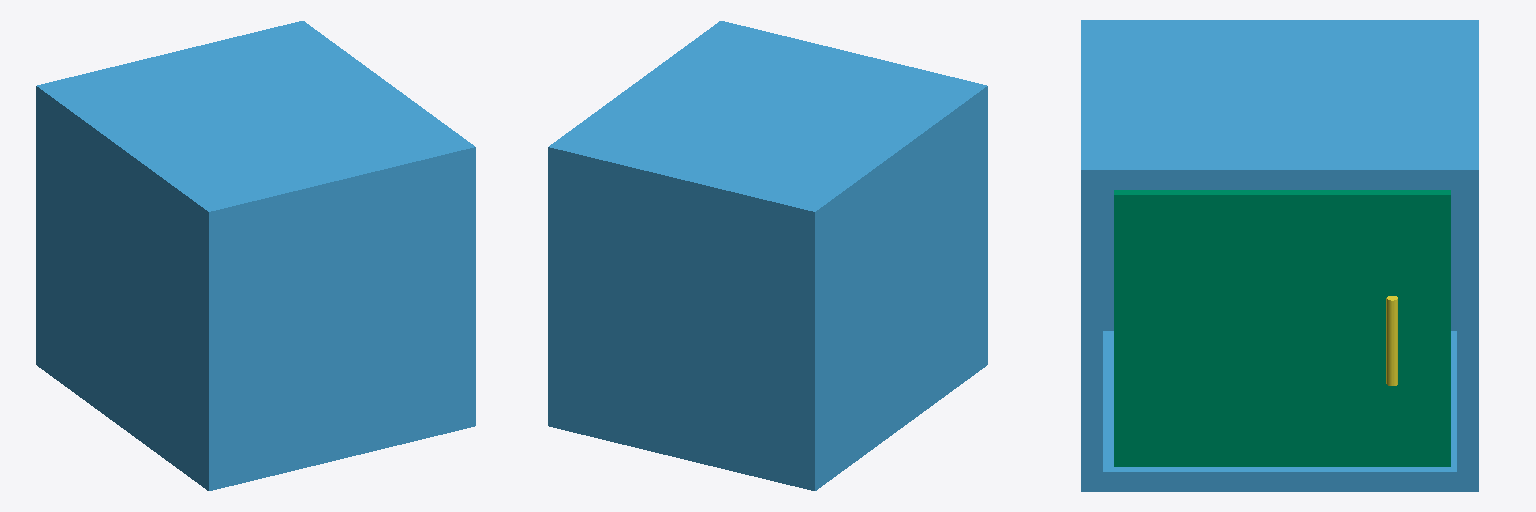
URDF robot description (my_cabinet):
<?xml version="1.0" ?>
<robot name="my_cabinet">
	<link name="world"/>
	<joint name="virtual_joint" type="fixed">
		<parent link="world"/>
		<child link="base_cabinet_link"/>
		<origin xyz="0.0 0.0 0.0" rpy="0.0 0.0 0.0"/>
	</joint>
	<link name="base_cabinet_link">
		<visual>
			<origin xyz="0.0 -0.0025 -0.14094410219396244" rpy="0.0 0.0 0.0"/>
			<geometry>
				<box size="0.3 0.3362288012594858 0.018"/>
			</geometry>
		</visual>
		<collision name="base_cabinet_link_collision_0">
			<origin xyz="0.0 -0.0025 -0.14094410219396244" rpy="0.0 0.0 0.0"/>
			<geometry>
				<box size="0.3 0.3362288012594858 0.018"/>
			</geometry>
		</collision>
		<visual>
			<origin xyz="0.0 0.1566144006297429 0.0" rpy="0.0 0.0 0.0"/>
			<geometry>
				<box size="0.3 0.018 0.2998882043879249"/>
			</geometry>
		</visual>
		<collision name="base_cabinet_link_collision_1">
			<origin xyz="0.0 0.1566144006297429 0.0" rpy="0.0 0.0 0.0"/>
			<geometry>
				<box size="0.3 0.018 0.2998882043879249"/>
			</geometry>
		</collision>
		<visual>
			<origin xyz="0.0 -0.16161440062974292 0.0" rpy="0.0 0.0 0.0"/>
			<geometry>
				<box size="0.3 0.018 0.2998882043879249"/>
			</geometry>
		</visual>
		<collision name="base_cabinet_link_collision_2">
			<origin xyz="0.0 -0.16161440062974292 0.0" rpy="0.0 0.0 0.0"/>
			<geometry>
				<box size="0.3 0.018 0.2998882043879249"/>
			</geometry>
		</collision>
		<visual>
			<origin xyz="0.0 -0.0025 0.14094410219396244" rpy="0.0 0.0 0.0"/>
			<geometry>
				<box size="0.3 0.3362288012594858 0.018"/>
			</geometry>
		</visual>
		<collision name="base_cabinet_link_collision_3">
			<origin xyz="0.0 -0.0025 0.14094410219396244" rpy="0.0 0.0 0.0"/>
			<geometry>
				<box size="0.3 0.3362288012594858 0.018"/>
			</geometry>
		</collision>
		<visual>
			<origin xyz="-0.141 -0.0025 0.0" rpy="0.0 0.0 0.0"/>
			<geometry>
				<box size="0.018 0.3362288012594858 0.2998882043879249"/>
			</geometry>
		</visual>
		<collision name="base_cabinet_link_collision_4">
			<origin xyz="-0.141 -0.0025 0.0" rpy="0.0 0.0 0.0"/>
			<geometry>
				<box size="0.018 0.3362288012594858 0.2998882043879249"/>
			</geometry>
		</collision>
		<inertial>
			<mass value="0.200000"/>
			<inertia ixx="0.003383" ixy="0.0" ixz="0.0" iyy="0.002999" iyz="0.0" izz="0.003384"/>
		</inertial>
	</link>
	<link name="door_link">
		<visual>
			<origin xyz="0.0 -0.1426144006297429 0.0"/>
			<geometry>
				<box size="0.018 0.2852288012594858 0.25388820438792487"/>
			</geometry>
		</visual>
		<collision name="door_link_collision">
			<origin xyz="0.0 -0.1426144006297429 0.0"/>
			<geometry>
				<box size="0.018 0.2852288012594858 0.25388820438792487"/>
			</geometry>
		</collision>
		<inertial>
			<mass value="0.200000"/>
			<inertia ixx="0.002430" ixy="0.0" ixz="0.0" iyy="0.001080" iyz="0.0" izz="0.001361"/>
		</inertial>
	</link>
	<joint name="door_joint" type="revolute">
		<origin xyz="0.141 -0.1426144006297429 0.0" rpy="0.000000 -0.000000 3.141593"/>
		<axis xyz="0 0 1"/>
		<parent link="base_cabinet_link"/>
		<child link="door_link"/>
		<limit effort="50" lower="-1.658062789394613" upper="0" velocity="10"/>
		<dynamics friction="3.5" damping="3.5"/>
	</joint>
	<link name="handle_link">
		<visual>
			<origin xyz="0.0 0.0 0.0" rpy="0.0 0.0 0.0"/>
			<geometry>
				<cylinder length="0.08" radius="0.005"/>
			</geometry>
		</visual>
		<collision name="handle_link_collision_0">
			<origin xyz="0.0 0.0 0.0" rpy="0.0 0.0 0.0"/>
			<geometry>
				<cylinder length="0.08" radius="0.005"/>
			</geometry>
		</collision>
		<visual>
			<origin xyz="-0.01 0.0 0.02" rpy="0.0 1.5707963267948966 0.0"/>
			<geometry>
				<cylinder length="0.02" radius="0.003"/>
			</geometry>
		</visual>
		<collision name="handle_link_collision_1">
			<origin xyz="-0.01 0.0 0.02" rpy="0.0 1.5707963267948966 0.0"/>
			<geometry>
				<cylinder length="0.01" radius="0.003"/>
			</geometry>
		</collision>
		<visual>
			<origin xyz="-0.01 0.0 -0.02" rpy="0.0 1.5707963267948966 0.0"/>
			<geometry>
				<cylinder length="0.02" radius="0.003"/>
			</geometry>
		</visual>
		<collision name="handle_link_collision_2">
			<origin xyz="-0.01 0.0 -0.02" rpy="0.0 1.5707963267948966 0.0"/>
			<geometry>
				<cylinder length="0.02" radius="0.003"/>
			</geometry>
		</collision>
		<inertial>
			<mass value="0.050000"/>
			<inertia ixx="0.000027" ixy="0.0" ixz="0.0" iyy="0.000029" iyz="0.0" izz="0.000003"/>
		</inertial>
	</link>
	<joint name="handle_joint" type="fixed">
		<origin xyz="-0.028999999999999998 -0.2352288012594858 0.0" rpy="0.000000 -0.000000 3.141593"/>
		<parent link="door_link"/>
		<child link="handle_link"/>
	</joint>
	<gazebo reference="base_cabinet_link">
		<sensor name="main_sensor" type="contact">
			<selfCollide>true</selfCollide>
			<alwaysOn>true</alwaysOn>
			<updateRate>5.0</updateRate>
			<material>Gazebo/Red</material>
			<contact>
				<collision>base_cabinet_link_collision_0_collision</collision>
				<collision>base_cabinet_link_collision_1_collision</collision>
				<collision>base_cabinet_link_collision_2_collision</collision>
				<collision>base_cabinet_link_collision_3_collision</collision>
				<collision>base_cabinet_link_collision_4_collision</collision>
			</contact>
			<plugin name="gazebo_ros_bumper_controller" filename="libgazebo_ros_bumper.so">
				<bumperTopicName>/contact</bumperTopicName>
				<frameName>world</frameName>
			</plugin>
		</sensor>
	</gazebo>
	<gazebo reference="door_link">
		<sensor name="main_sensor" type="contact">
			<selfCollide>true</selfCollide>
			<alwaysOn>true</alwaysOn>
			<updateRate>5.0</updateRate>
			<material>Gazebo/Red</material>
			<contact>
				<collision>door_link_collision_collision</collision>
			</contact>
			<plugin name="gazebo_ros_bumper_controller" filename="libgazebo_ros_bumper.so">
				<bumperTopicName>/contact_door</bumperTopicName>
				<frameName>contact_door</frameName>
			</plugin>
		</sensor>
	</gazebo>
	<gazebo reference="door_link">
		<mu>3.0</mu>
		<mu2>3.0</mu2>
		<kp>10000000</kp>
		<kd>100</kd>
	</gazebo>
</robot>

--- Facts derived from the render (not from the file) ---
The picture shows the robot from 3 angles, left to right: view 1: azimuth 30°, elevation 25°; view 2: azimuth 150°, elevation 25°; view 3: azimuth 270°, elevation 25°; orthographic projection.
Model my_cabinet with 4 links and 3 joints (1 revolute, 2 fixed), rooted at world, posed all joints at 0.
Visible links, largest first — view 1: base_cabinet_link; view 2: base_cabinet_link; view 3: base_cabinet_link, door_link, handle_link.
Link boxes in pixels (x1,y1,x2,y2): base_cabinet_link: [36, 21, 475, 490]; base_cabinet_link: [548, 21, 987, 490]; base_cabinet_link: [1081, 20, 1478, 491]; door_link: [1114, 190, 1450, 466]; handle_link: [1386, 296, 1397, 385].
Bounding box of the posed robot: 0.325 × 0.3362 × 0.2999 m (x, y, z).
Geometry: primitives only (box / cylinder / sphere), no mesh files.
